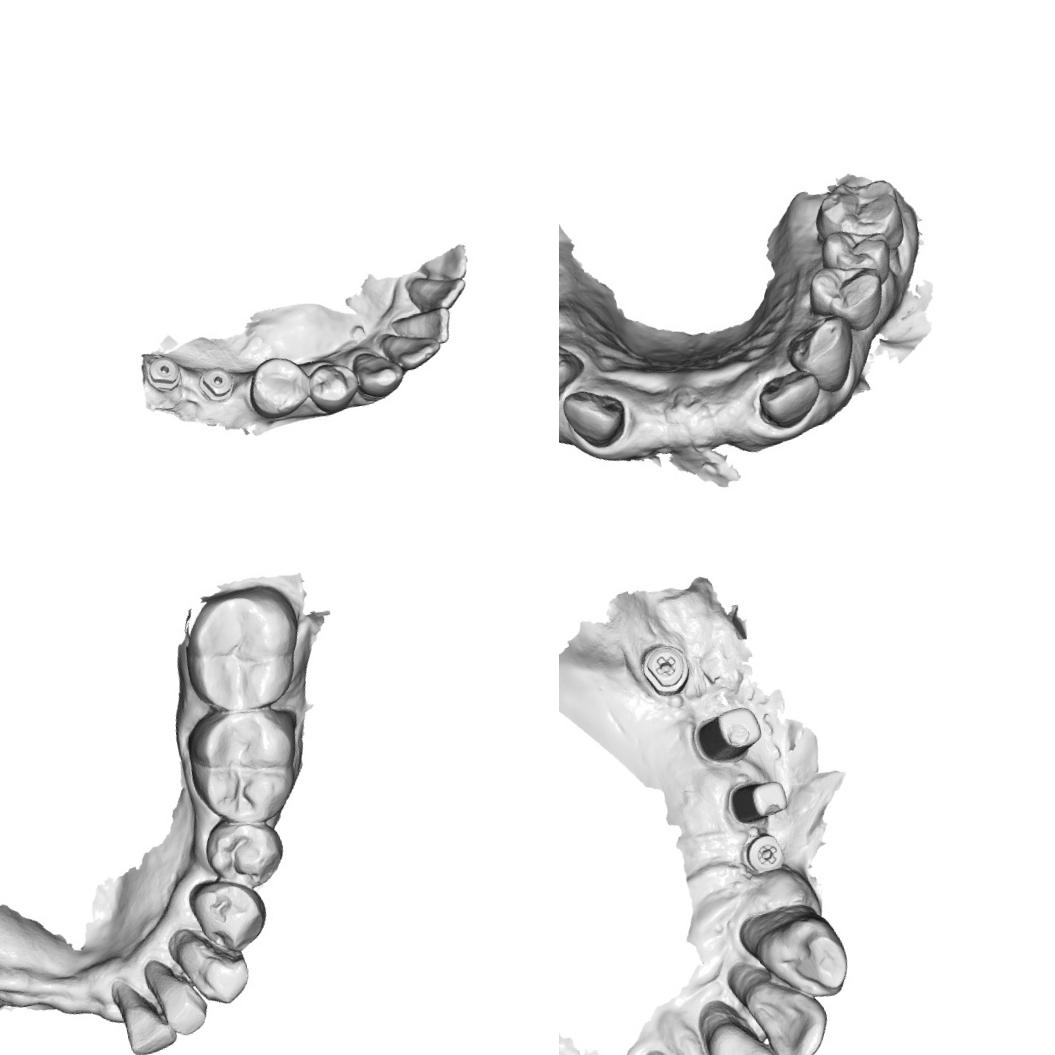abutment: (688, 701, 766, 766), (721, 773, 792, 829)
canine: (750, 910, 852, 1008), (779, 308, 868, 400), (170, 920, 256, 1012), (349, 344, 408, 406), (559, 321, 590, 409)
implant: (141, 350, 185, 396), (194, 361, 238, 405)
implant_plus: (632, 632, 694, 696), (740, 830, 783, 874)
incisor: (741, 970, 836, 1055), (147, 960, 213, 1042), (559, 381, 632, 454), (751, 364, 826, 434), (107, 981, 177, 1055), (702, 1010, 800, 1055), (376, 324, 446, 376), (402, 267, 470, 317), (387, 304, 455, 353), (413, 240, 473, 288)
molar: (176, 580, 310, 716), (180, 698, 310, 833), (807, 170, 906, 246)
premolar: (185, 870, 273, 957), (200, 809, 290, 893), (800, 255, 889, 329), (815, 220, 896, 293), (240, 350, 314, 424), (302, 356, 364, 418)
